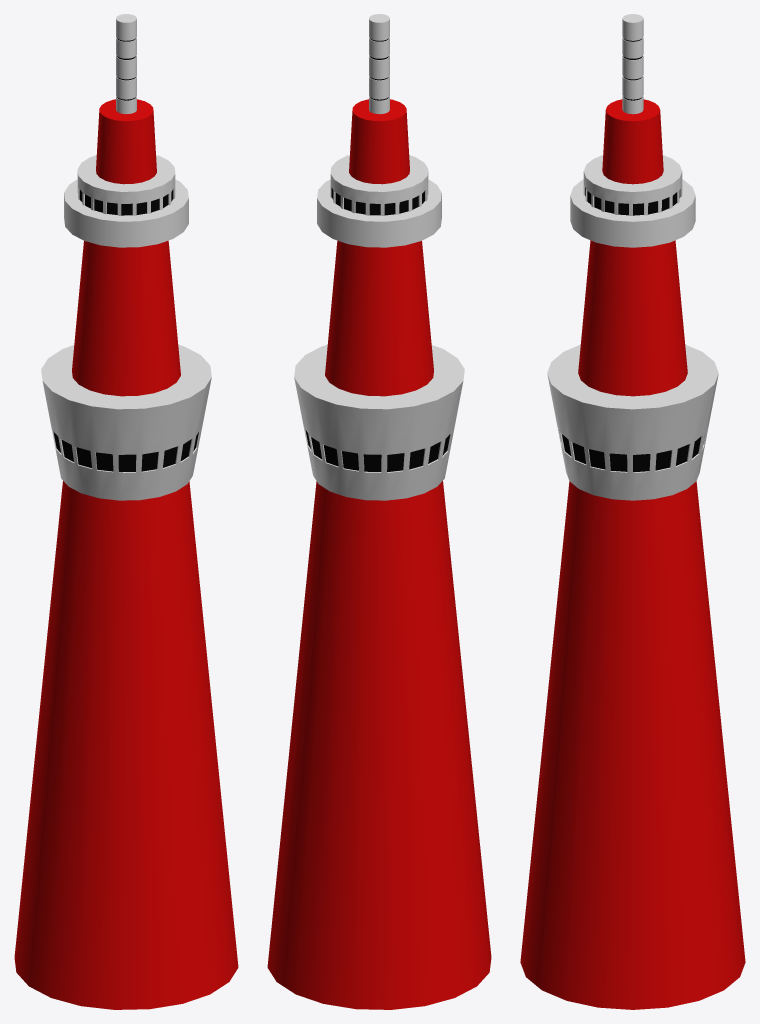
File: タワー.fbx
The picture shows the model from 3 angles, left to right: view 1: azimuth 30°, elevation 25°; view 2: azimuth 150°, elevation 25°; view 3: azimuth 270°, elevation 25°; orthographic projection.
Parts seen in each view (by area): view 1: polySurface20; view 2: polySurface20; view 3: polySurface20.
Boxes of the visible parts, x1,y1,x2,y2 form: polySurface20: (14, 14, 238, 1009); polySurface20: (267, 14, 491, 1009); polySurface20: (520, 14, 745, 1009).
Size of the model in its own units: 5.22 by 24.14 by 5.22.
